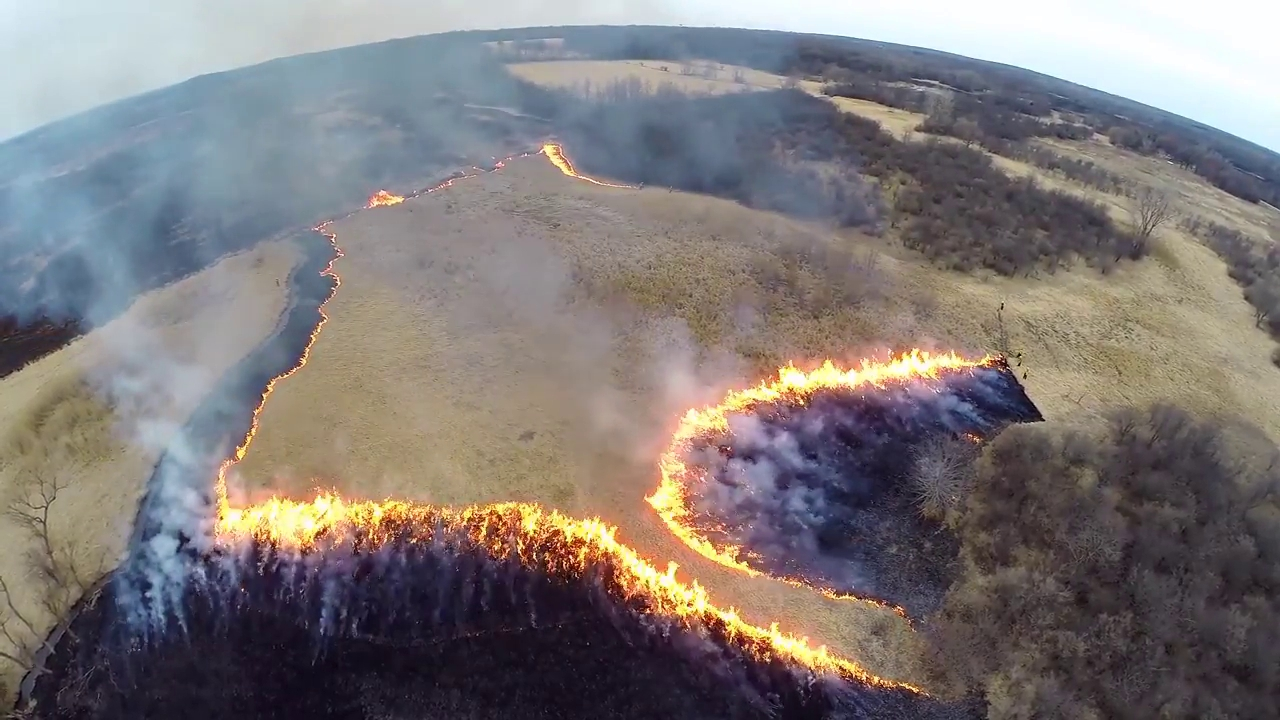forest_fire: (215, 220, 918, 691), (645, 349, 1002, 576), (771, 574, 905, 616), (540, 142, 608, 184), (415, 177, 458, 193), (369, 190, 404, 206), (368, 200, 397, 205), (496, 160, 504, 166), (474, 170, 480, 173), (375, 194, 378, 199), (506, 157, 510, 159)
